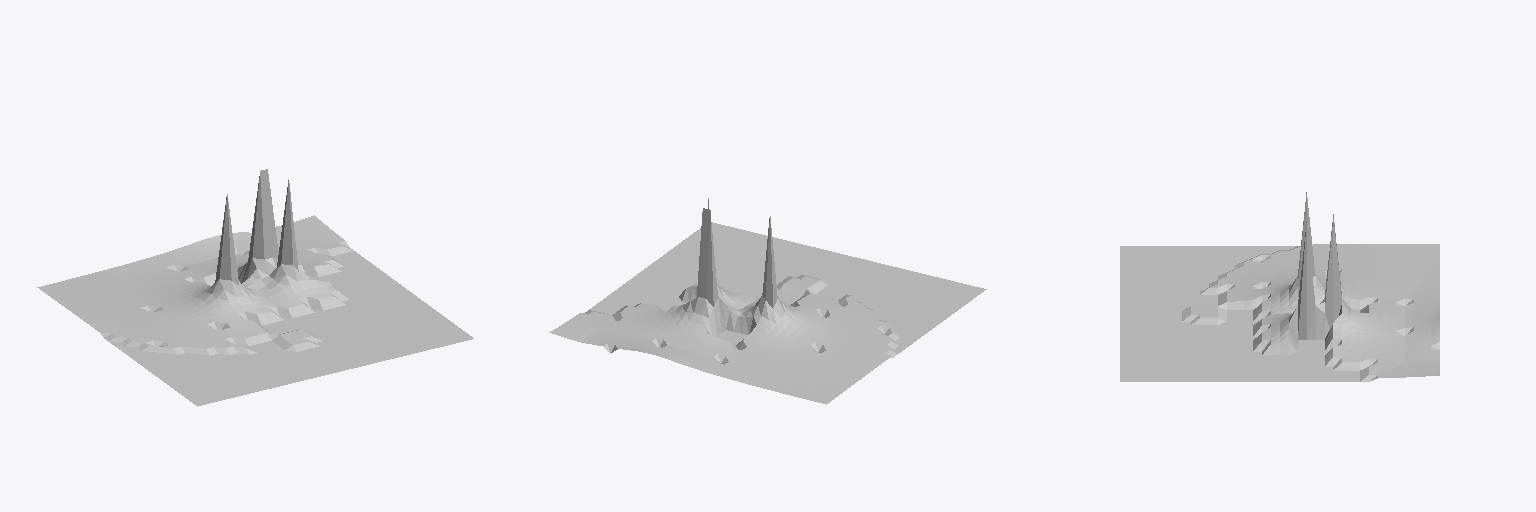
The model's file is unityexport.obj.
3 views of the same model, side by side, from view 1: azimuth 30°, elevation 25°; view 2: azimuth 150°, elevation 25°; view 3: azimuth 270°, elevation 25° (orthographic).
Size of the model in its own units: 100 by 40 by 100.